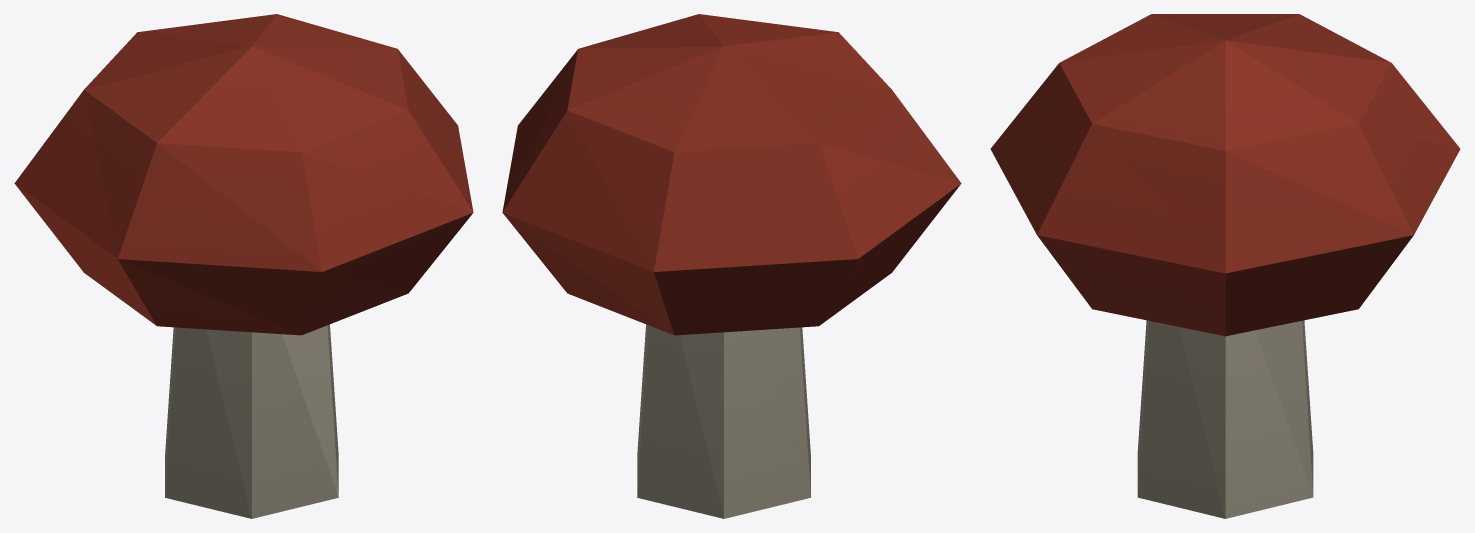
The model's file is mushroom_2.glb.
The picture shows the model from 3 angles, left to right: view 1: azimuth 30°, elevation 25°; view 2: azimuth 150°, elevation 25°; view 3: azimuth 270°, elevation 25°; orthographic projection.
Visible parts, largest first — view 1: mushroom_2; view 2: mushroom_2; view 3: mushroom_2.
Boxes of the visible parts, left/top/right/bottom form: mushroom_2: left=14, top=14, right=473, bottom=518; mushroom_2: left=502, top=14, right=961, bottom=518; mushroom_2: left=990, top=14, right=1460, bottom=518.
Size of the model in its own units: 0.1128 by 0.1183 by 0.1157.
